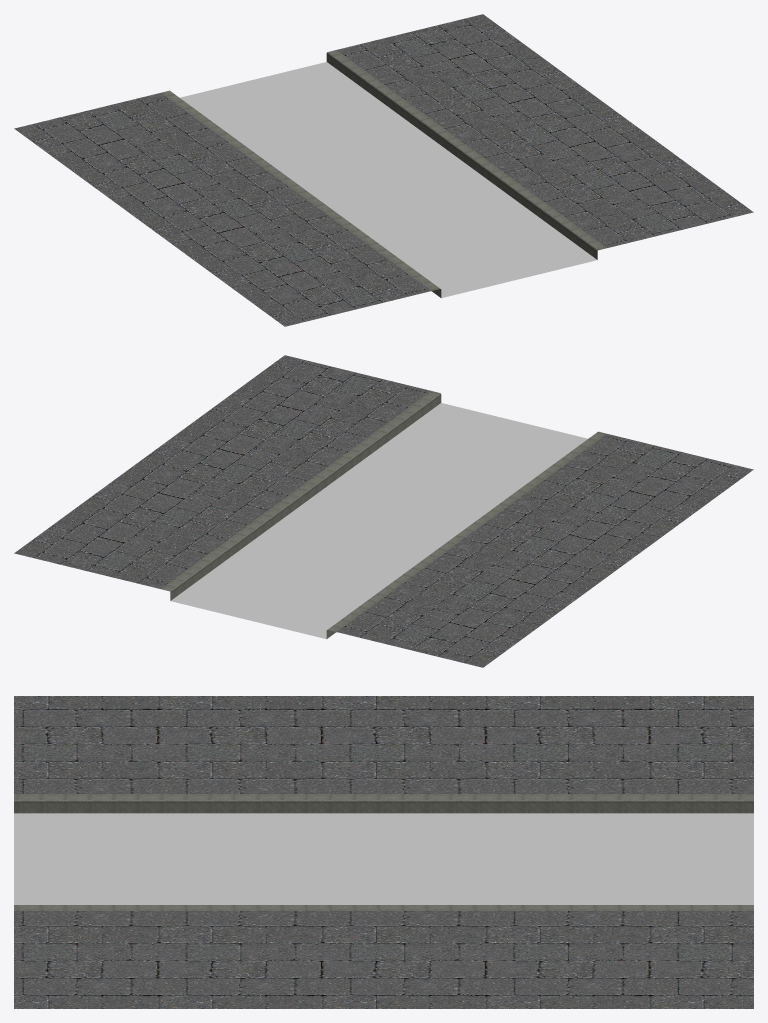
File: CT_Road_Lane_01.fbx
3 renders of one model, top to bottom at view 1: azimuth 30°, elevation 25°; view 2: azimuth 150°, elevation 25°; view 3: azimuth 270°, elevation 25°, orthographic. The views are drawn at different scales.
Parts seen in each view (by area): view 1: CT_Road_Lane_01; view 2: CT_Road_Lane_01; view 3: CT_Road_Lane_01.
Part boxes in pixels (<box>): CT_Road_Lane_01: <box>14,14,753,326</box>; CT_Road_Lane_01: <box>14,355,753,667</box>; CT_Road_Lane_01: <box>14,696,753,1008</box>.
Bounding box in the file's own units: 768 × 15 × 768.
